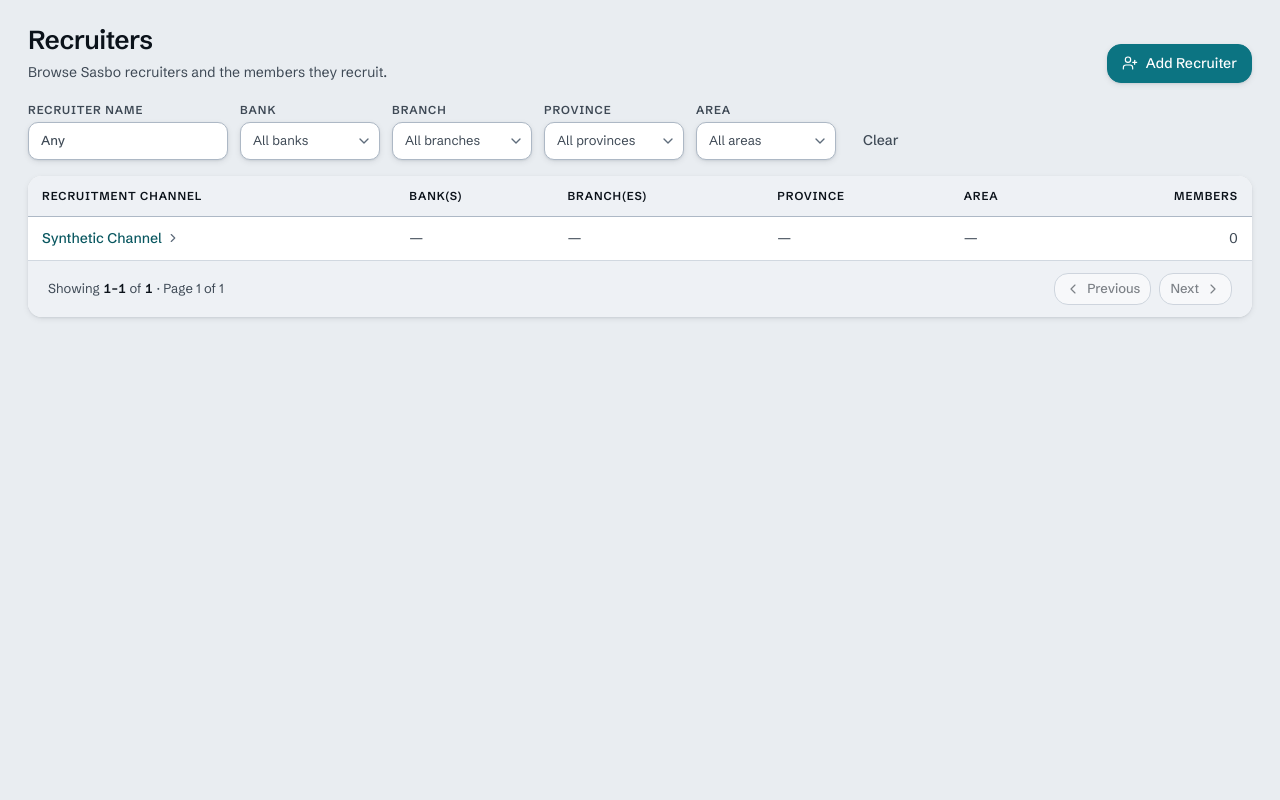
Test case: Recruiters › ⑥ an action that worked says so › the must-pass: an add that failed still says so, as a failure
The image size is (1280, 800).
Click the button with aria-label "Synthetic Channel — show the members recruited" at [111, 238], box [42,228,180,248]
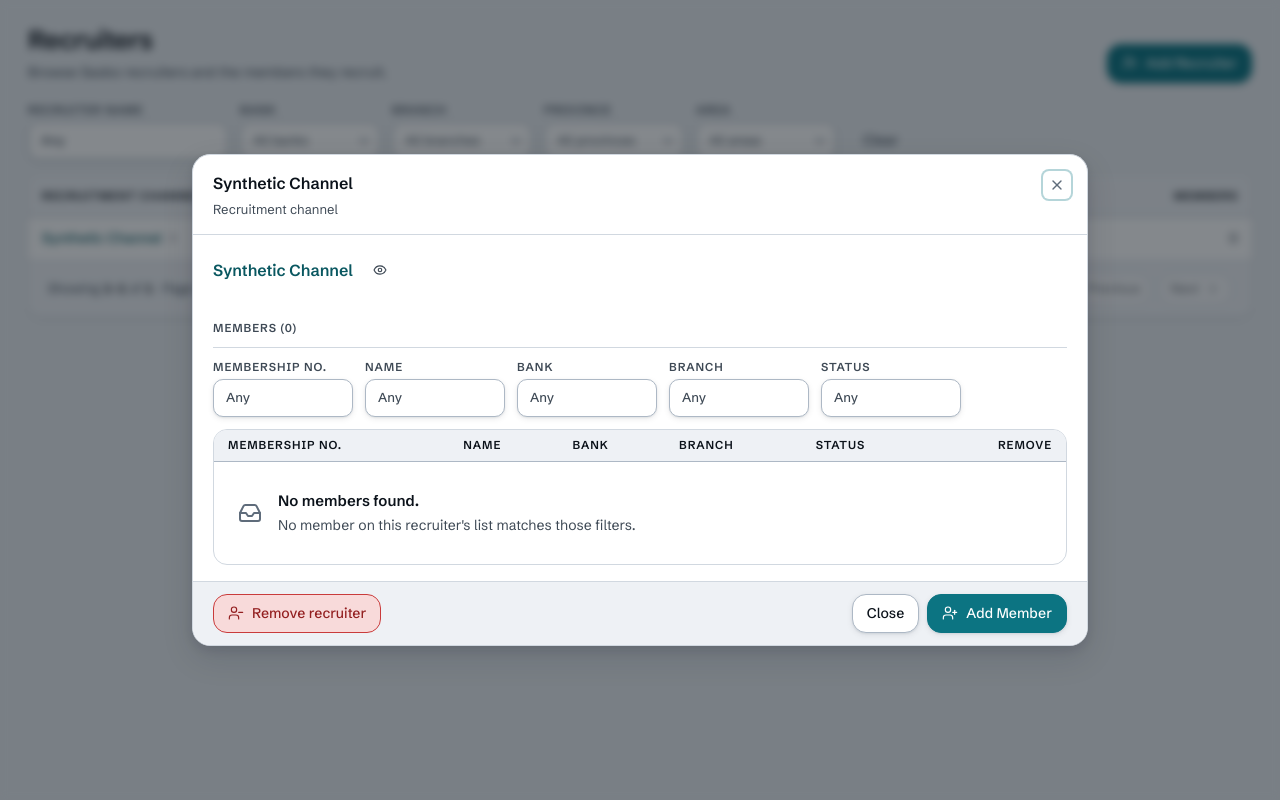
Click the button "Add Member" at [997, 614], box [927,594,1067,633]
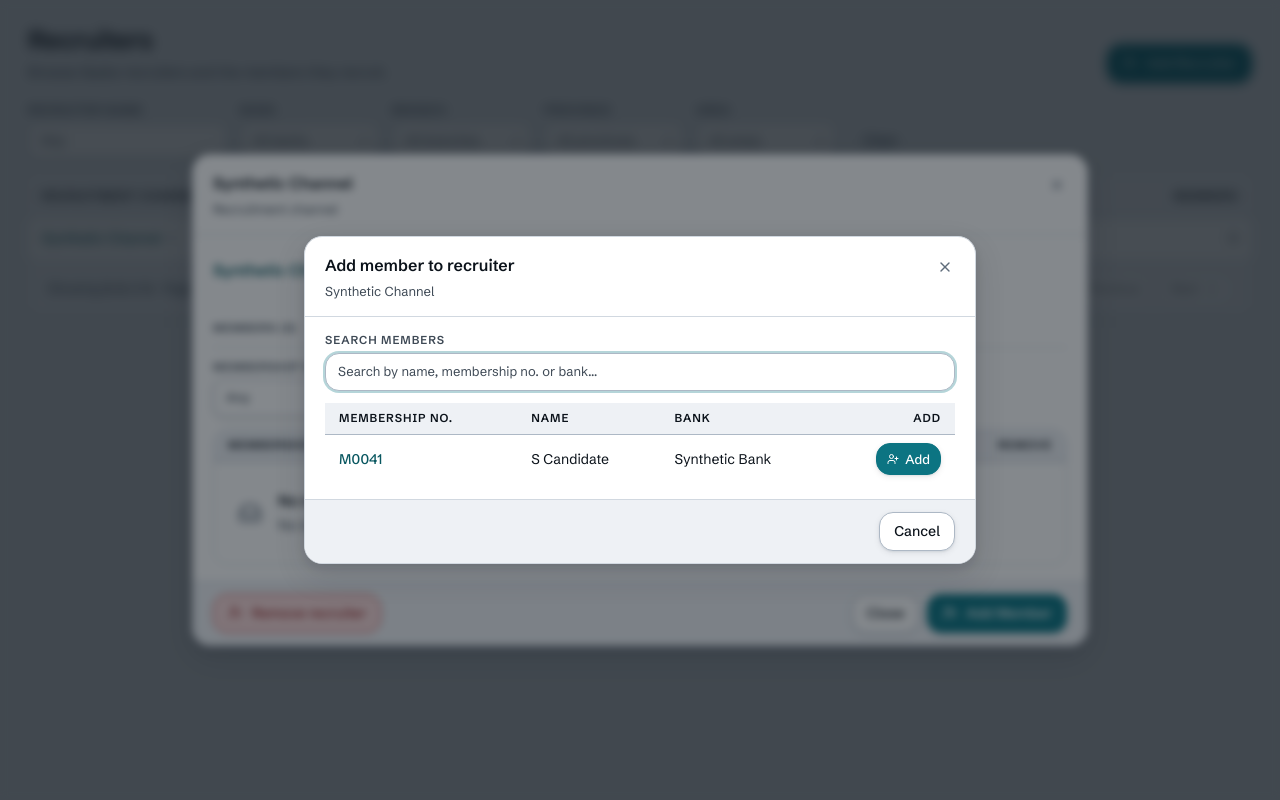
Click the button with aria-label "Add S Candidate to this recruiter" at [909, 459], box [876,443,941,475]
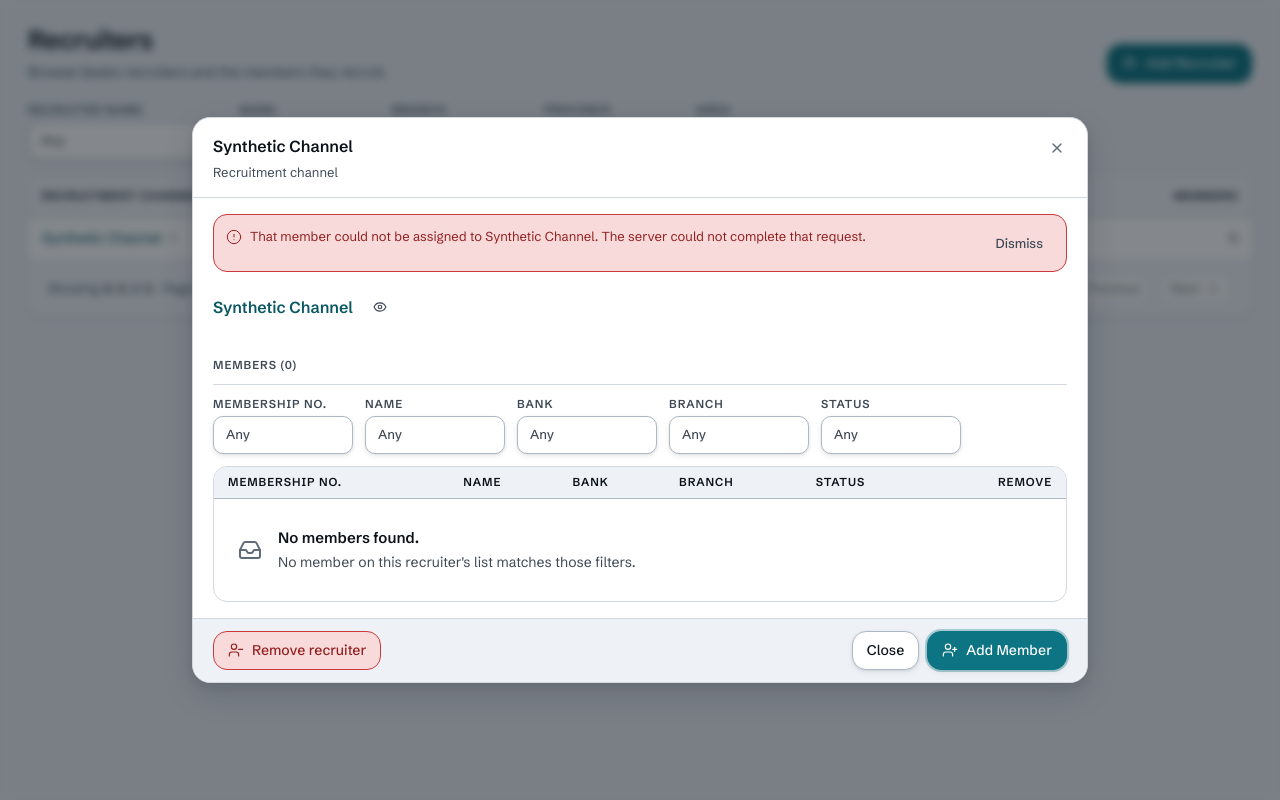
Expected: the 1st message shows "could not be assigned", [250,228,866,244]
